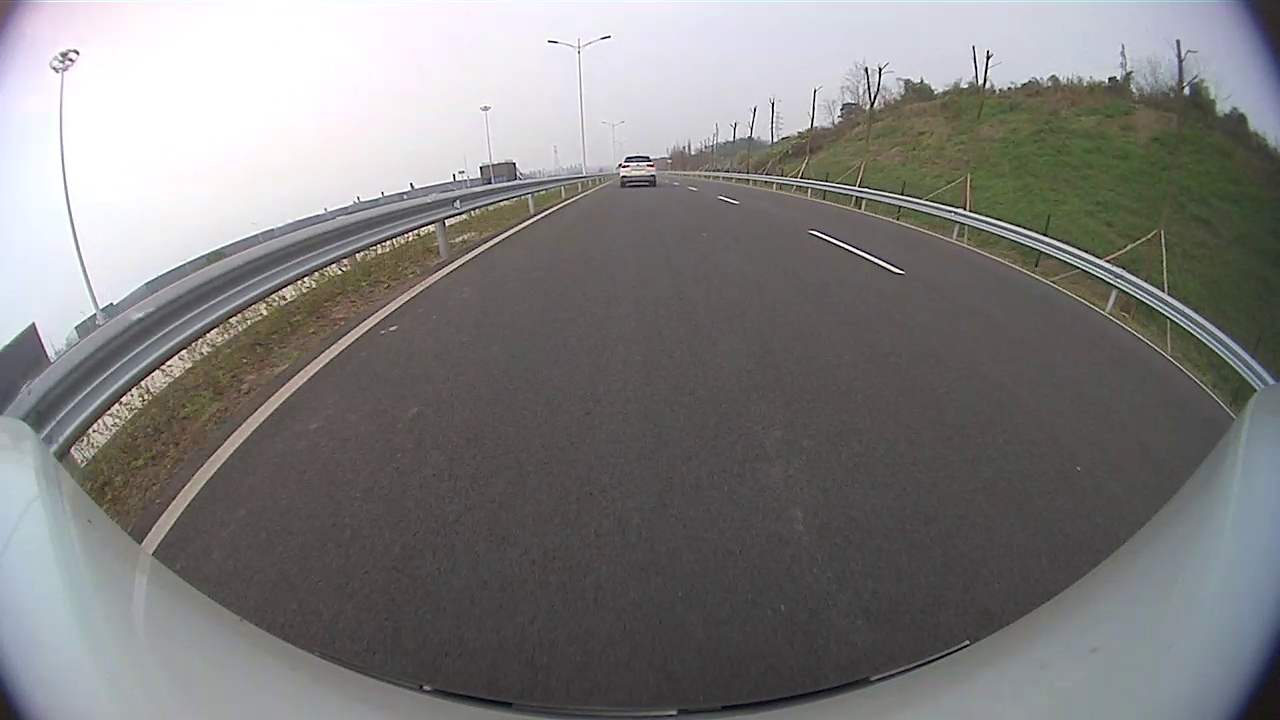car: (618, 156, 656, 188)
